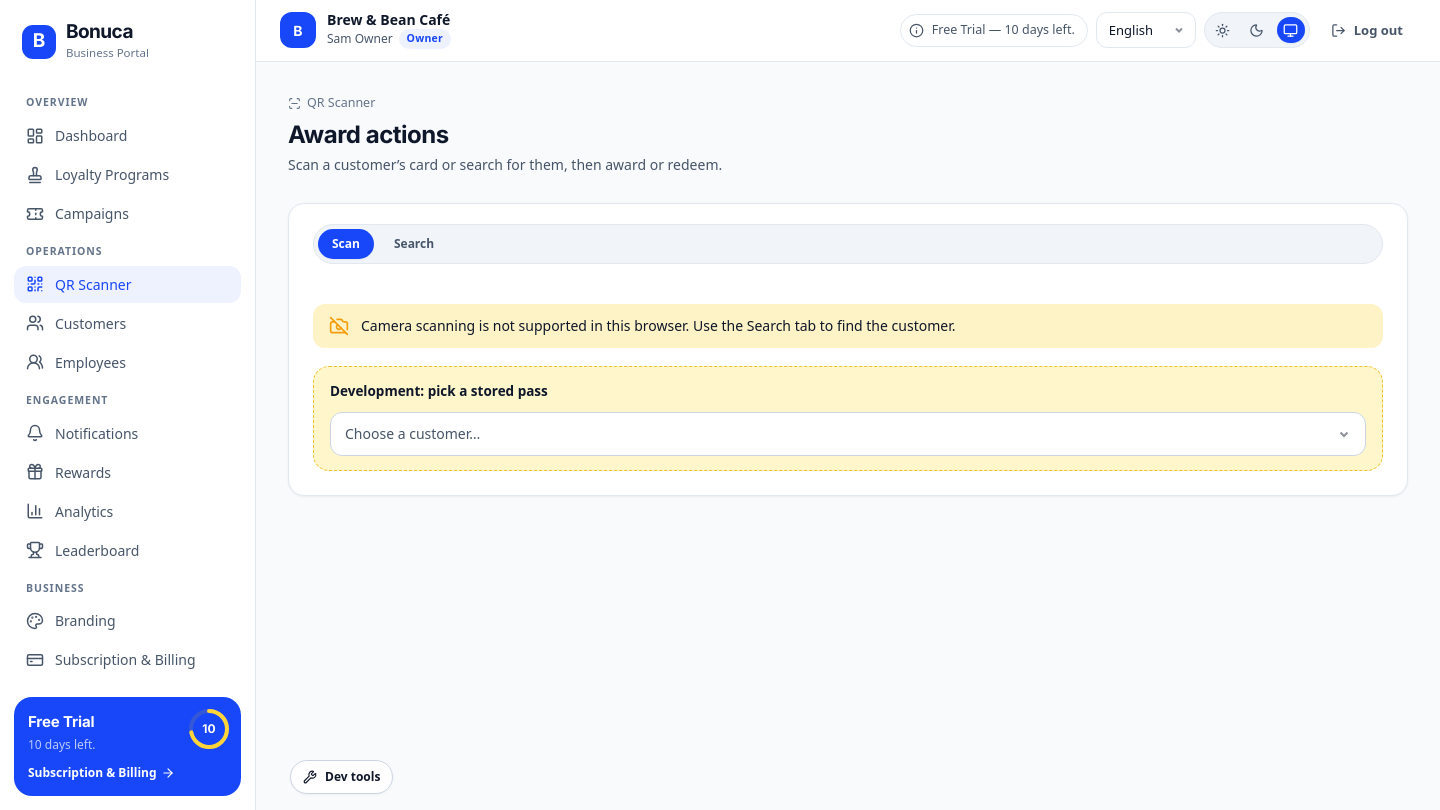
Test case: Award actions (QR Scanner, spec §4.4) › owner: sees Remove stamp (-1) and the amount dropdown
Expected: the heading "Award actions" is shown, [288, 120, 449, 150]
Click the tab "Search".
click(414, 244)  # box [380, 229, 448, 259]
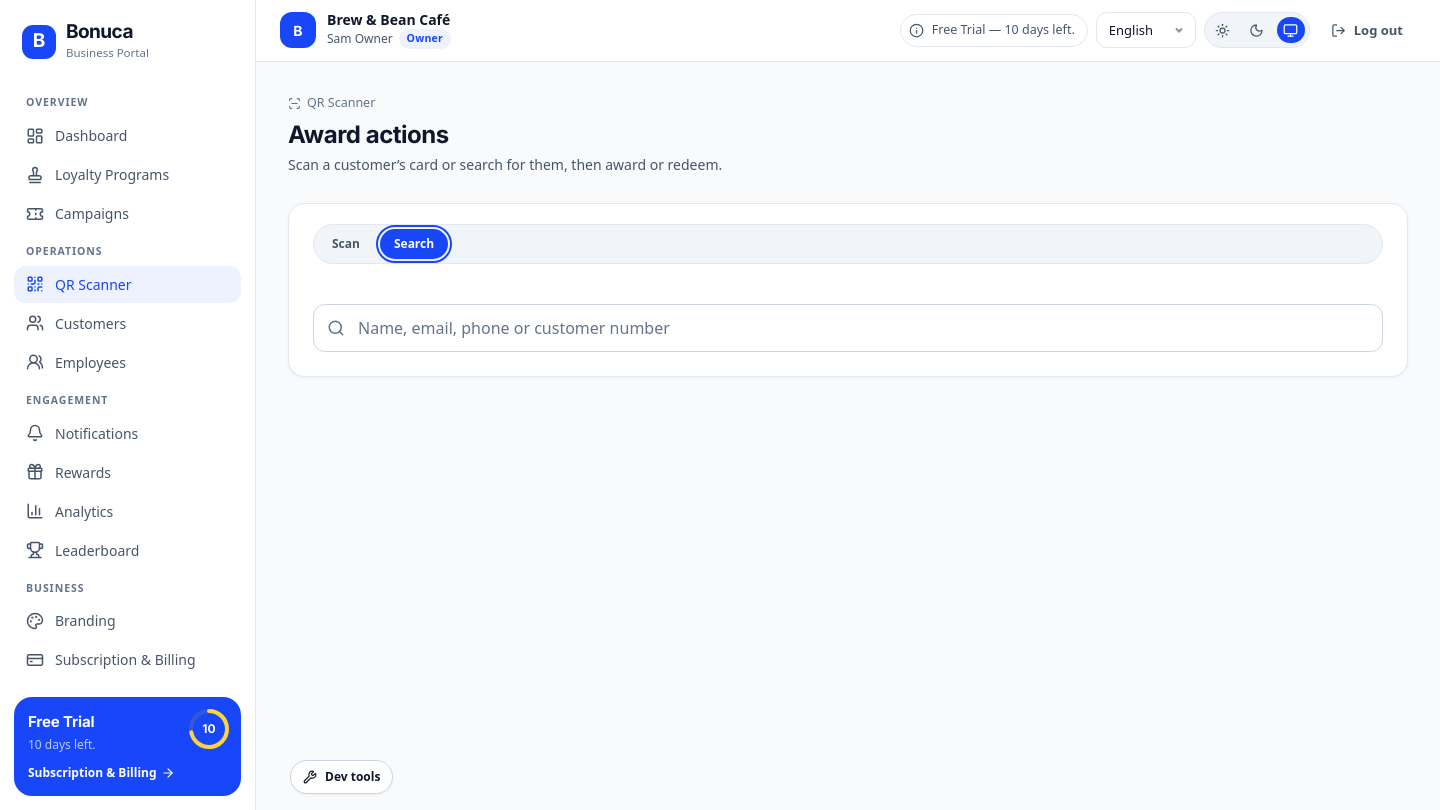
Type "C-10001" into the field named "Search customers".
click(848, 328); type("C-10001")  # box [313, 304, 1383, 352]
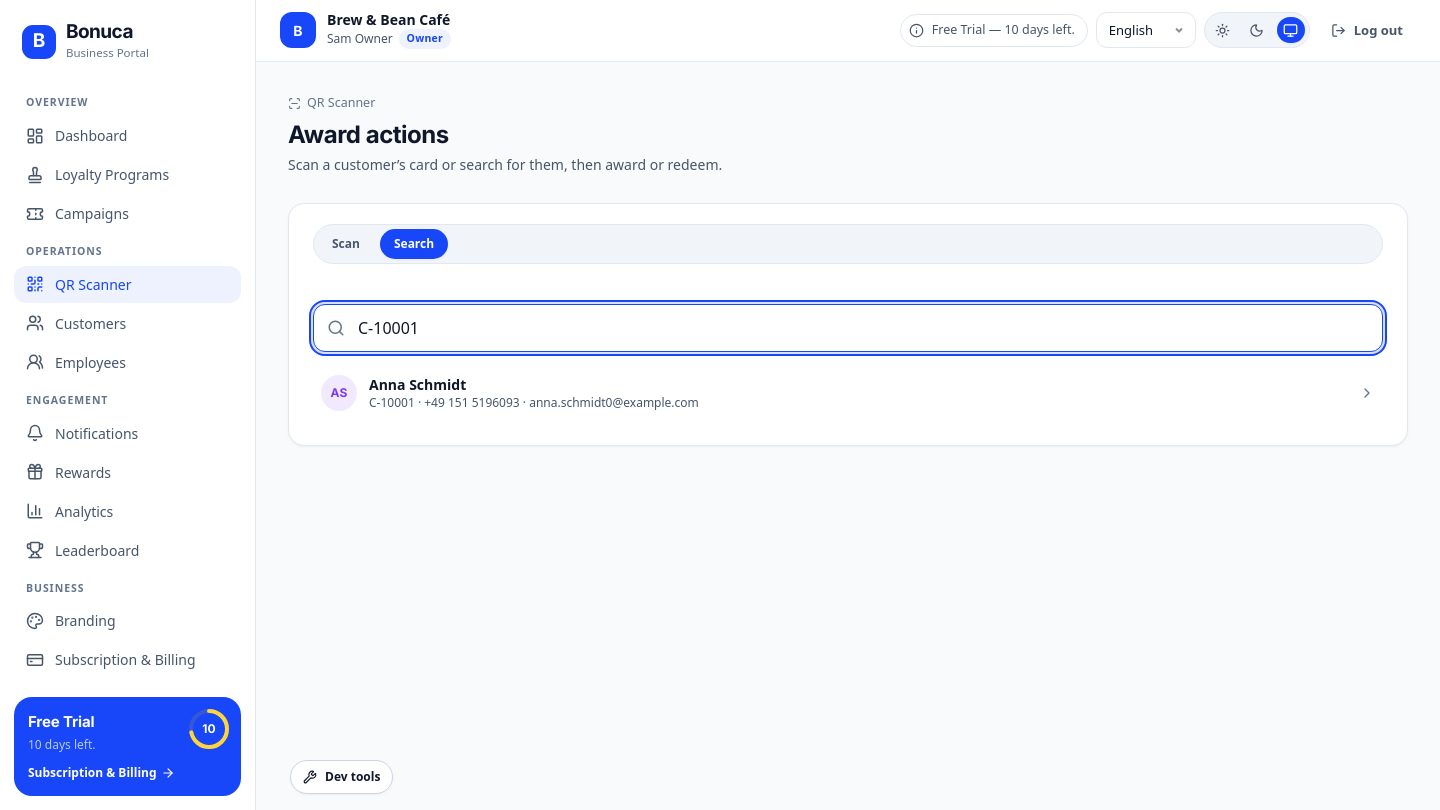
Click the button "C-10001".
click(339, 393)  # box [313, 364, 1383, 421]
(page scrolled)
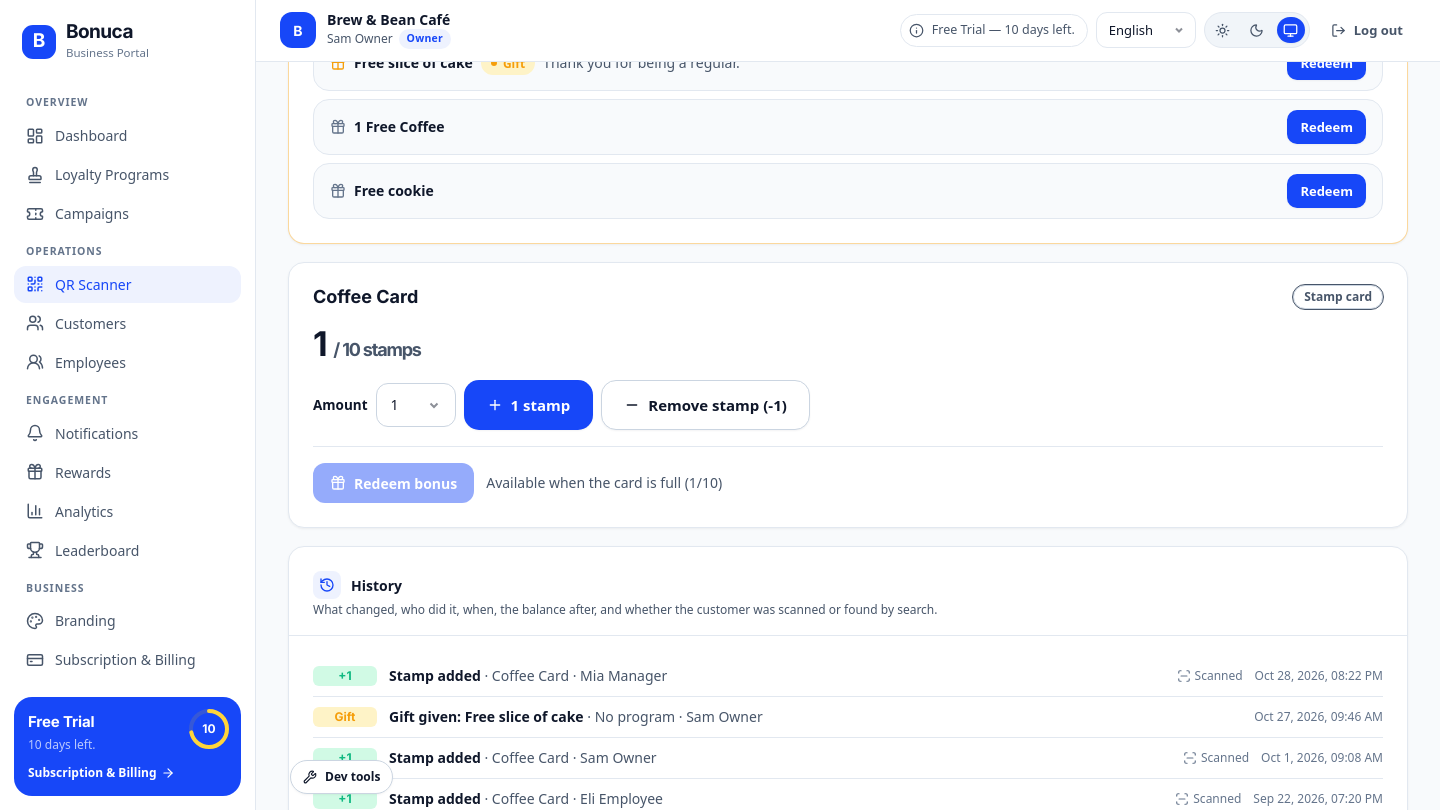
Expected: the button "Remove stamp (-1)" is shown, [601, 380, 810, 430]
Expected: the dropdown named "Stamp amount" is shown, [376, 383, 456, 427]
